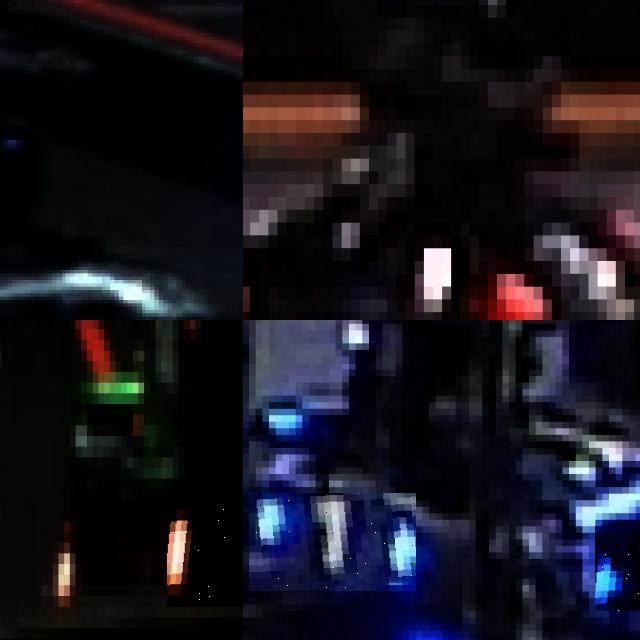B1: (249, 494, 416, 592), (595, 519, 640, 611)
Rs: (167, 500, 243, 606)
